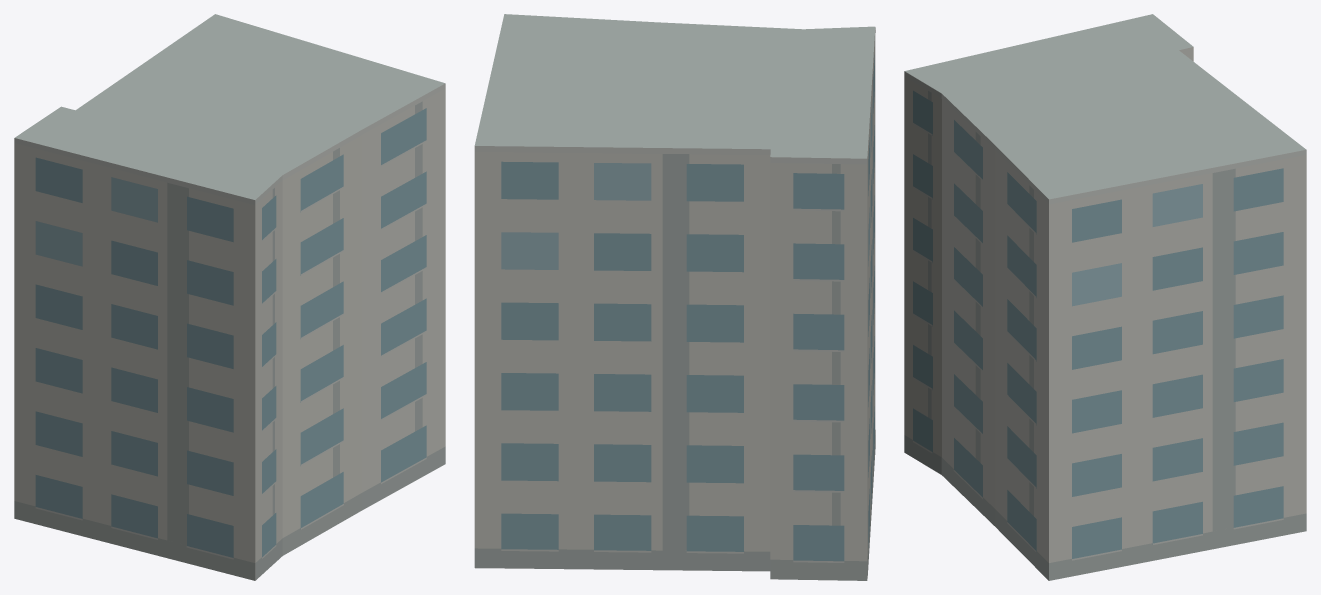
Rendered from survey-upis-32800752.glb.
3 views of the same model, side by side, from view 1: azimuth 30°, elevation 25°; view 2: azimuth 150°, elevation 25°; view 3: azimuth 270°, elevation 25° (orthographic). The views are drawn at different scales.
Visible parts, largest first — view 1: survey-upis-32800752.tmp; view 2: survey-upis-32800752.tmp; view 3: survey-upis-32800752.tmp.
Part boxes in pixels (bbox=[...]): survey-upis-32800752.tmp: bbox=[14, 14, 445, 580]; survey-upis-32800752.tmp: bbox=[474, 14, 875, 580]; survey-upis-32800752.tmp: bbox=[904, 14, 1306, 580].
Bounding box in the file's own units: 18.46 × 17.7 × 16.92.
